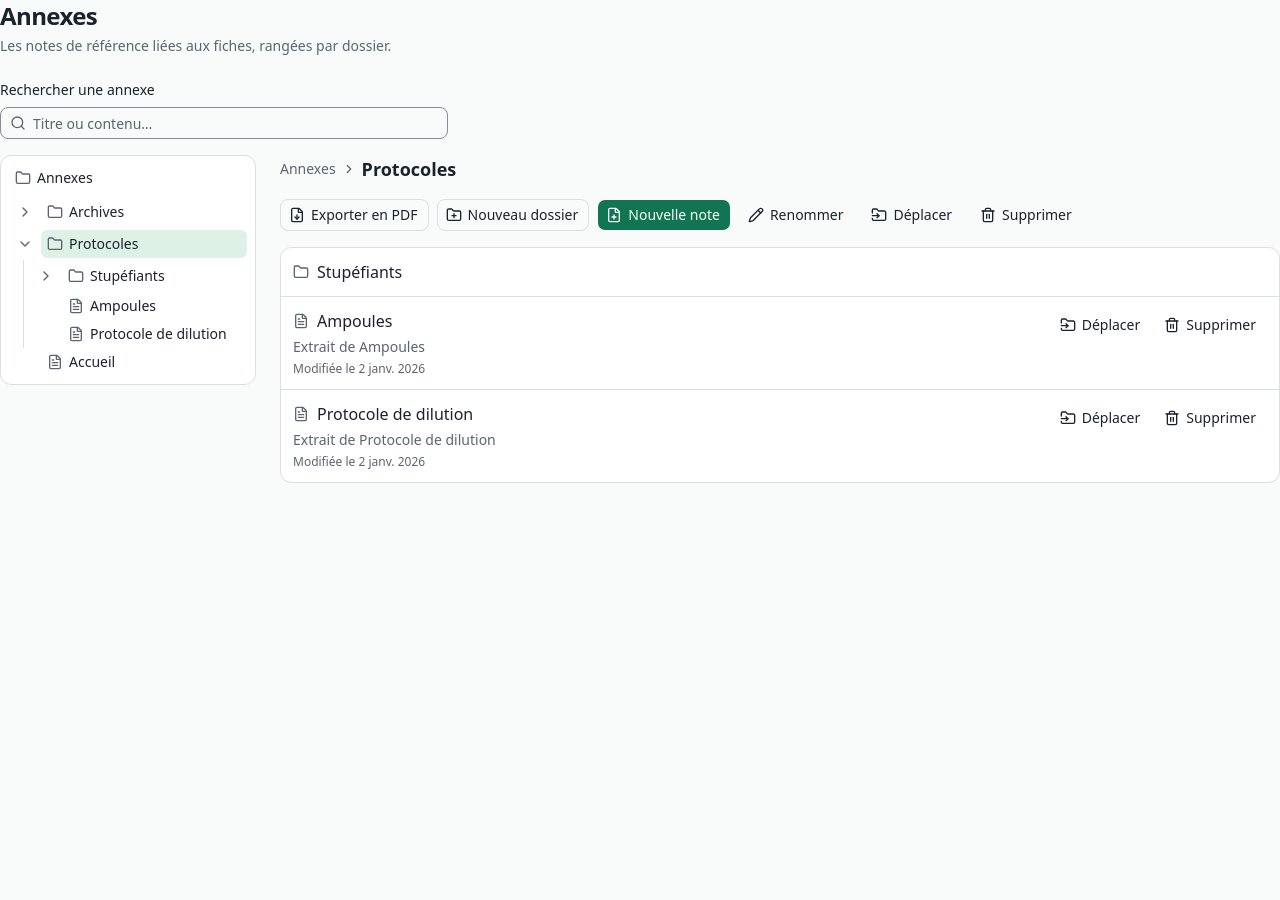
it: Annexes page › deleting a folder states the affected counts, then lists the templates from a 409
Click the button "Supprimer" in the row of "Nouvelle note" at point(1027, 215), box [971, 199, 1083, 231]
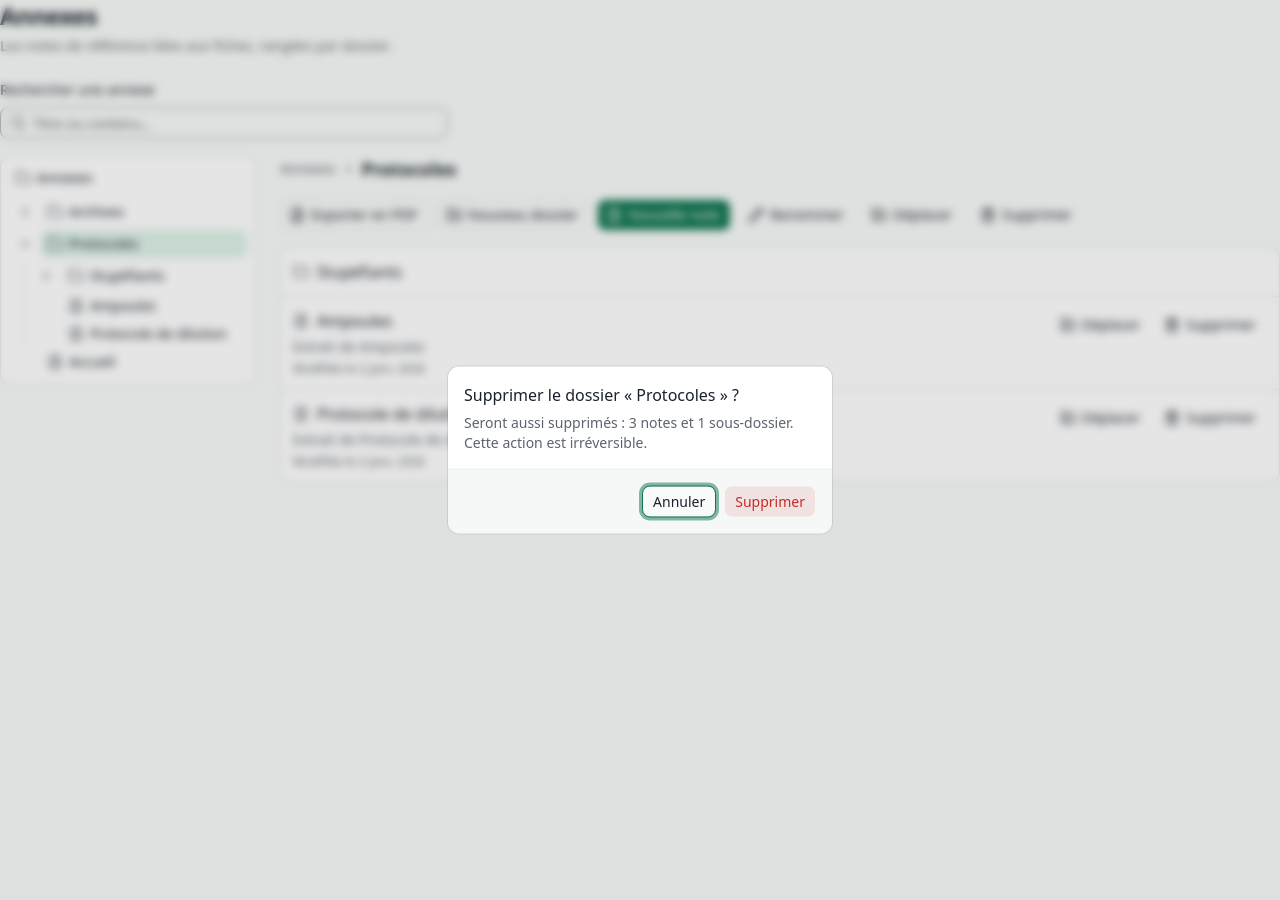
Check: the text "3 notes et 1 sous-dossier" is shown, box [464, 412, 793, 452]
Click the button "Supprimer" at point(770, 502), box [724, 486, 816, 518]
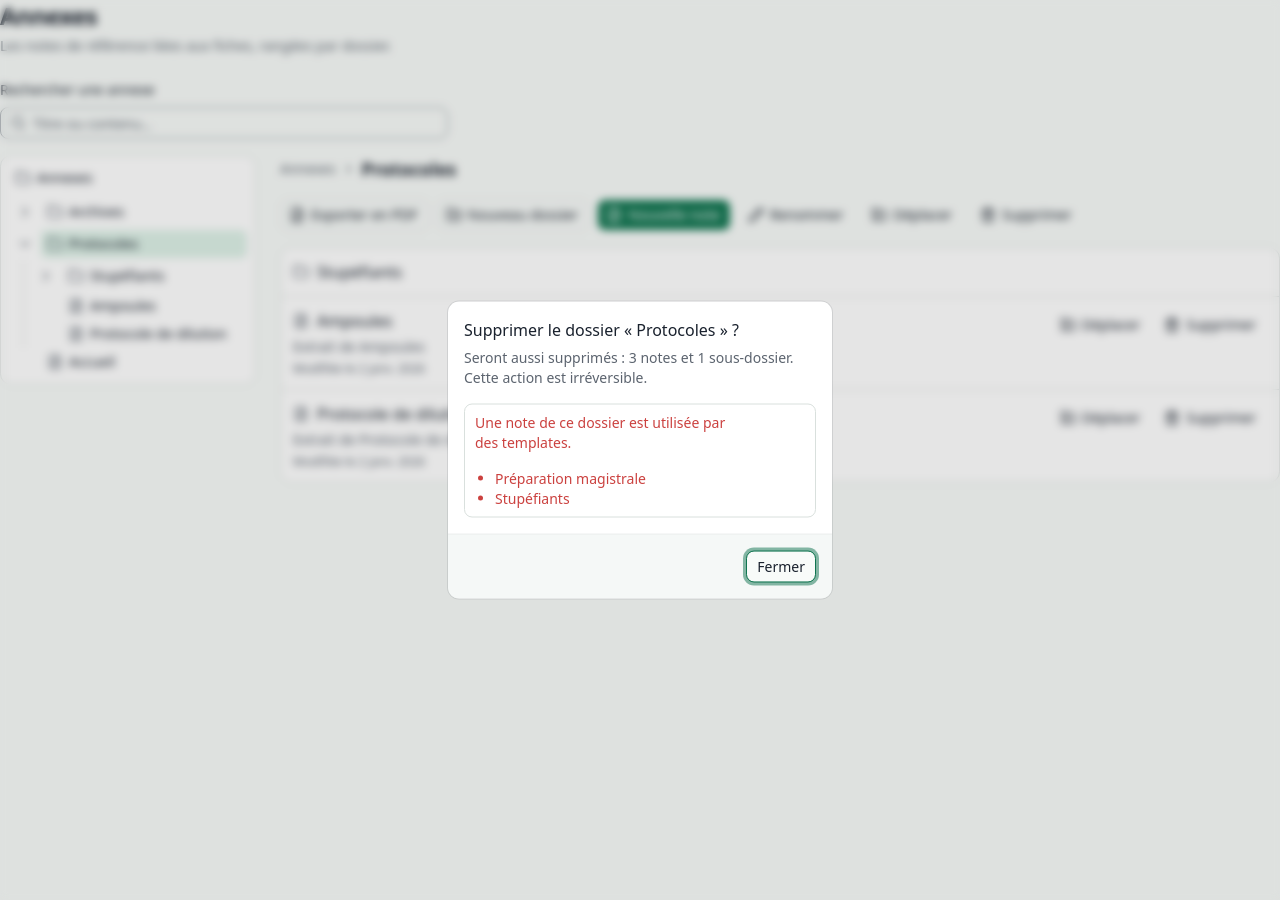
Check: the text "Une note de ce dossier est utilisée par des templates." is shown, box [475, 412, 725, 452]
